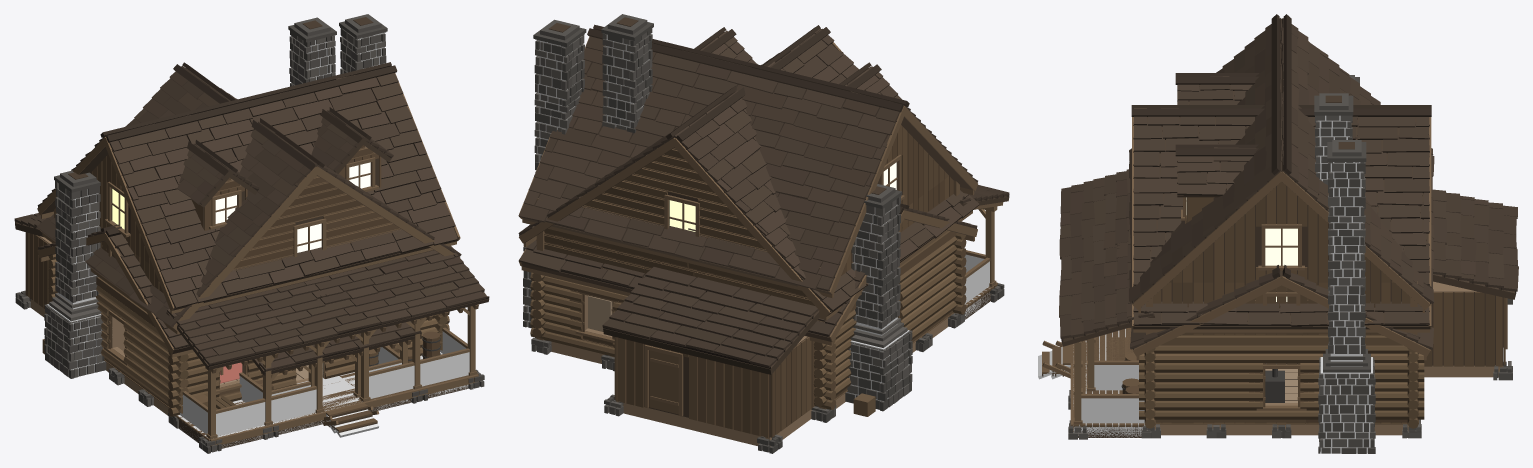
Rendered from houses.glb.
The picture shows the model from 3 angles, left to right: view 1: azimuth 30°, elevation 25°; view 2: azimuth 150°, elevation 25°; view 3: azimuth 270°, elevation 25°; orthographic projection. The views are drawn at different scales.
Parts seen in each view (by area): view 1: House1, House3, House2, House1Col, House2Col; view 2: House3, House1, House2, House1Col; view 3: House1, House3, House2, House1Col, House2Col.
Boxes of the visible parts, x1,y1,x2,y2 form: House1: [37, 14, 489, 453]; House3: [14, 17, 460, 428]; House2: [37, 170, 449, 428]; House1Col: [177, 331, 469, 447]; House2Col: [239, 347, 401, 433]; House3: [518, 14, 977, 453]; House1: [518, 19, 1009, 422]; House2: [518, 184, 977, 422]; House1Col: [954, 254, 990, 319]; House1: [1042, 105, 1431, 453]; House3: [1081, 14, 1518, 438]; House2: [1055, 75, 1433, 438]; House1Col: [1038, 329, 1147, 437]; House2Col: [1051, 329, 1138, 391].
Bounding box in the file's own units: 12.86 × 10.73 × 14.76.
